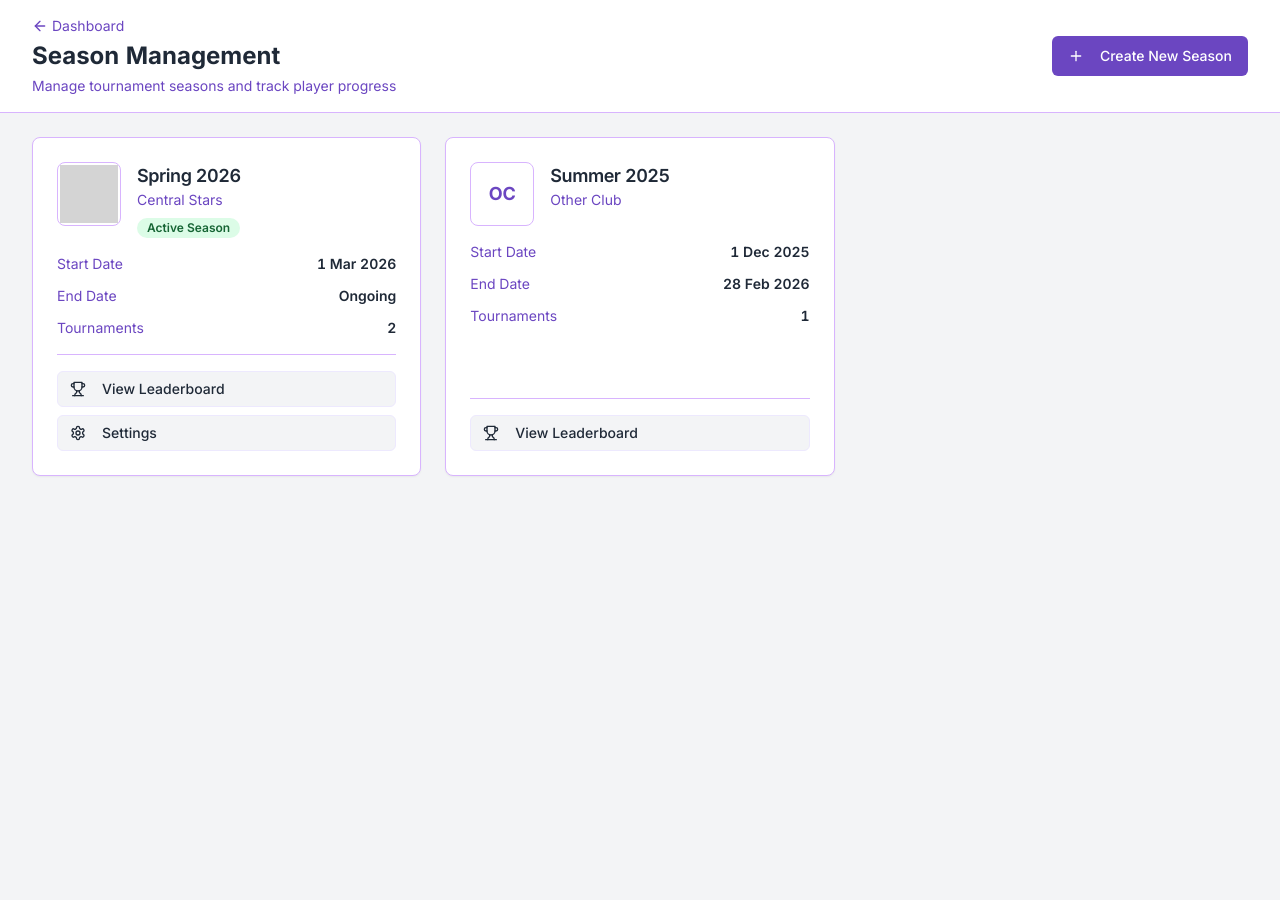
Test case: Create New Season › creates a season in a club the viewer runs, with no end date, and refreshes the list
Step 1. Click the button with test id "create-season-button" → (1150, 56), box x1=1052 y1=36 x2=1248 y2=76
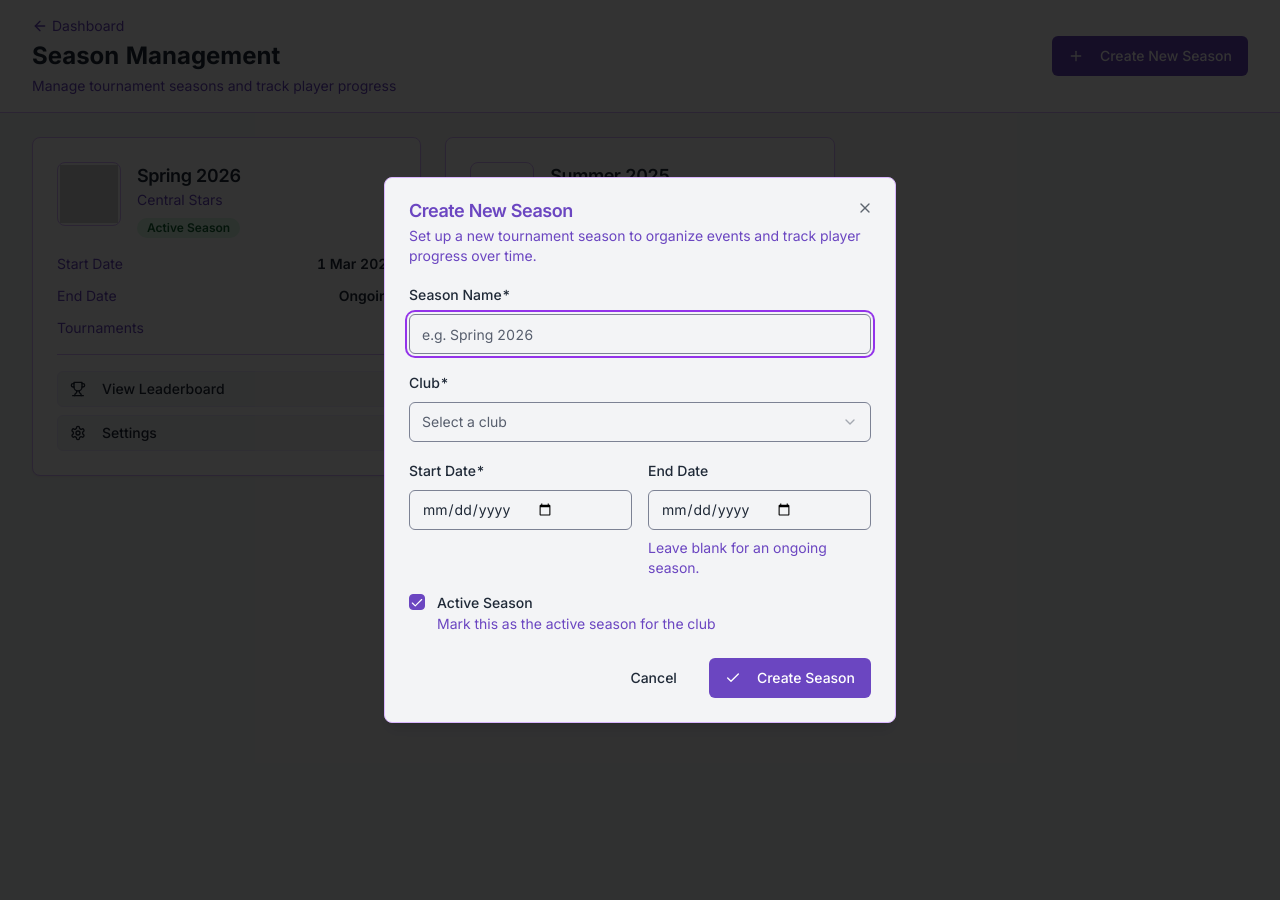
Step 2. Type "Winter League" into the field labelled "Season Name*" → (640, 334), box x1=409 y1=314 x2=871 y2=354
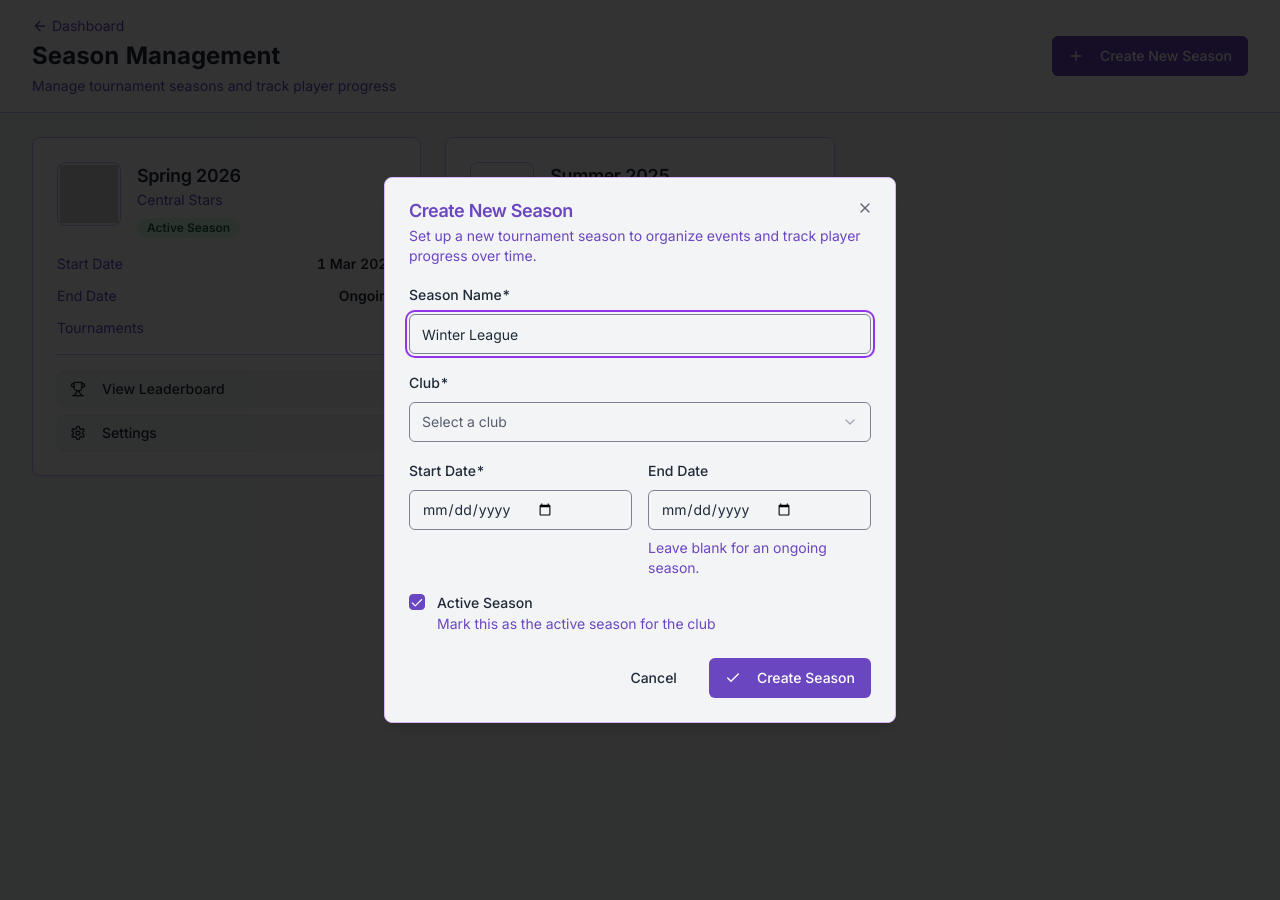
Step 3. Click the dropdown labelled "club" → (464, 422), box x1=409 y1=402 x2=871 y2=442
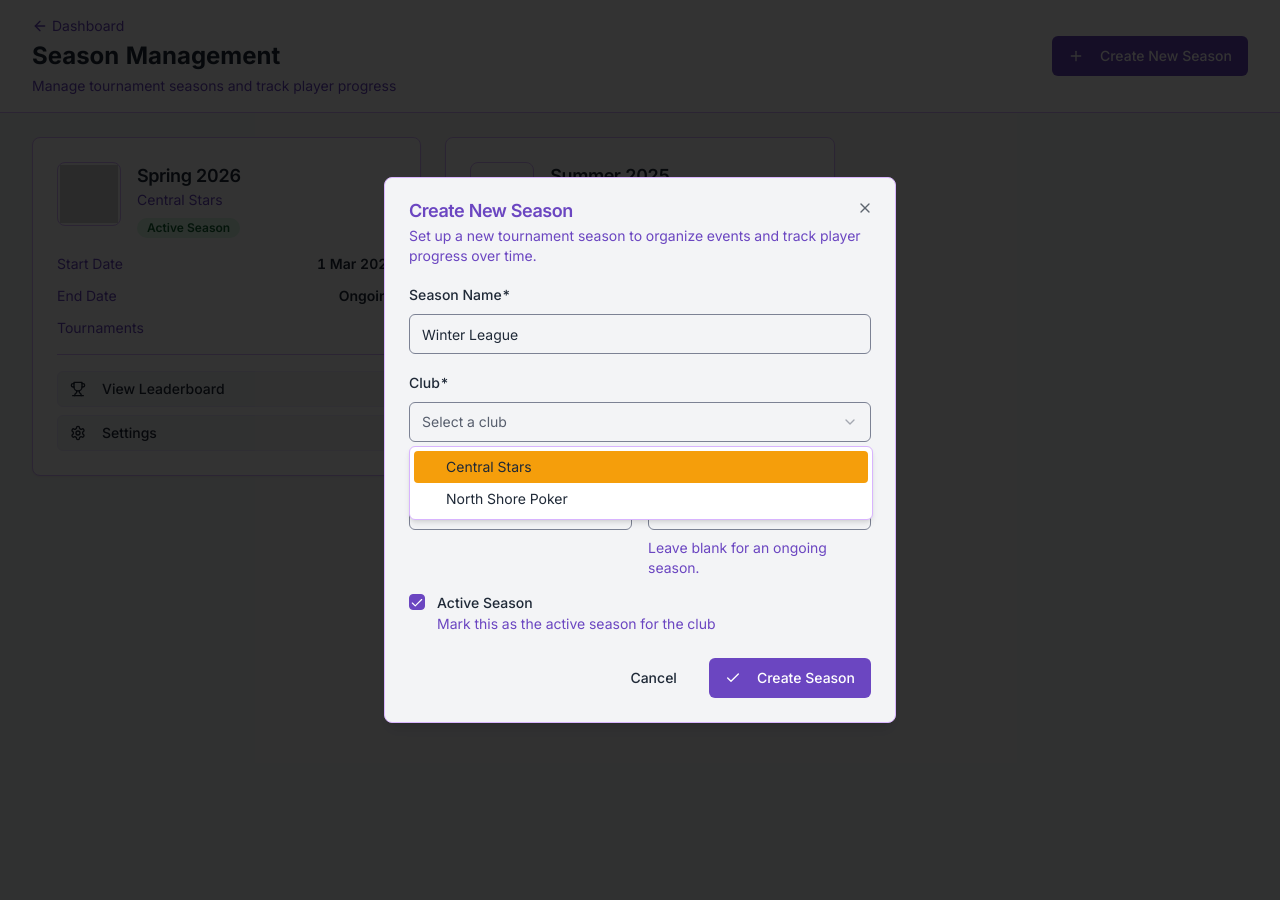
Expected: the options read "Central Stars", "North Shore Poker", in this order
Step 4. Click the option "North Shore Poker" → (507, 498), box x1=446 y1=490 x2=568 y2=507
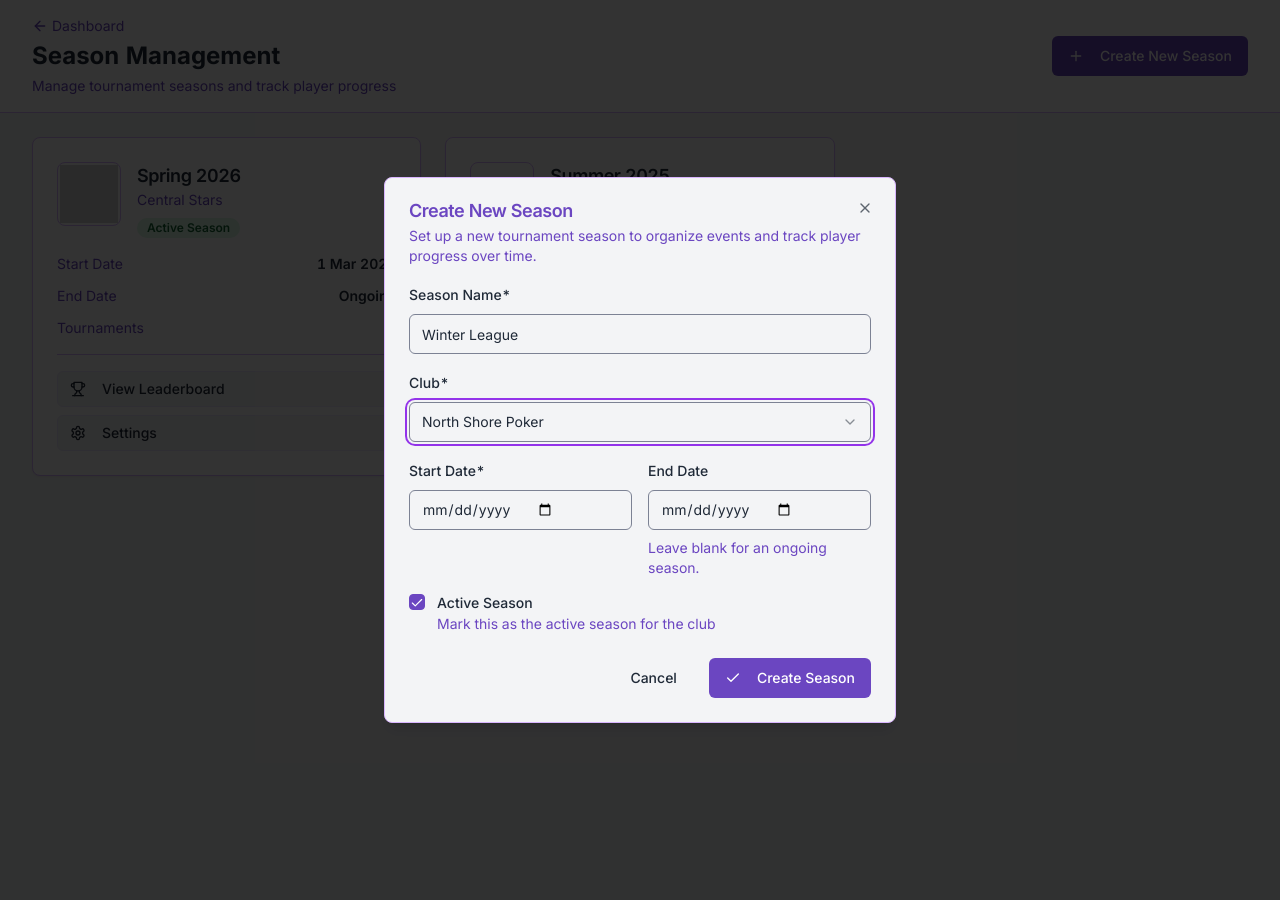
Step 5. Type "2026-06-01" into the date field labelled "Start Date*" → (520, 510), box x1=409 y1=490 x2=632 y2=530
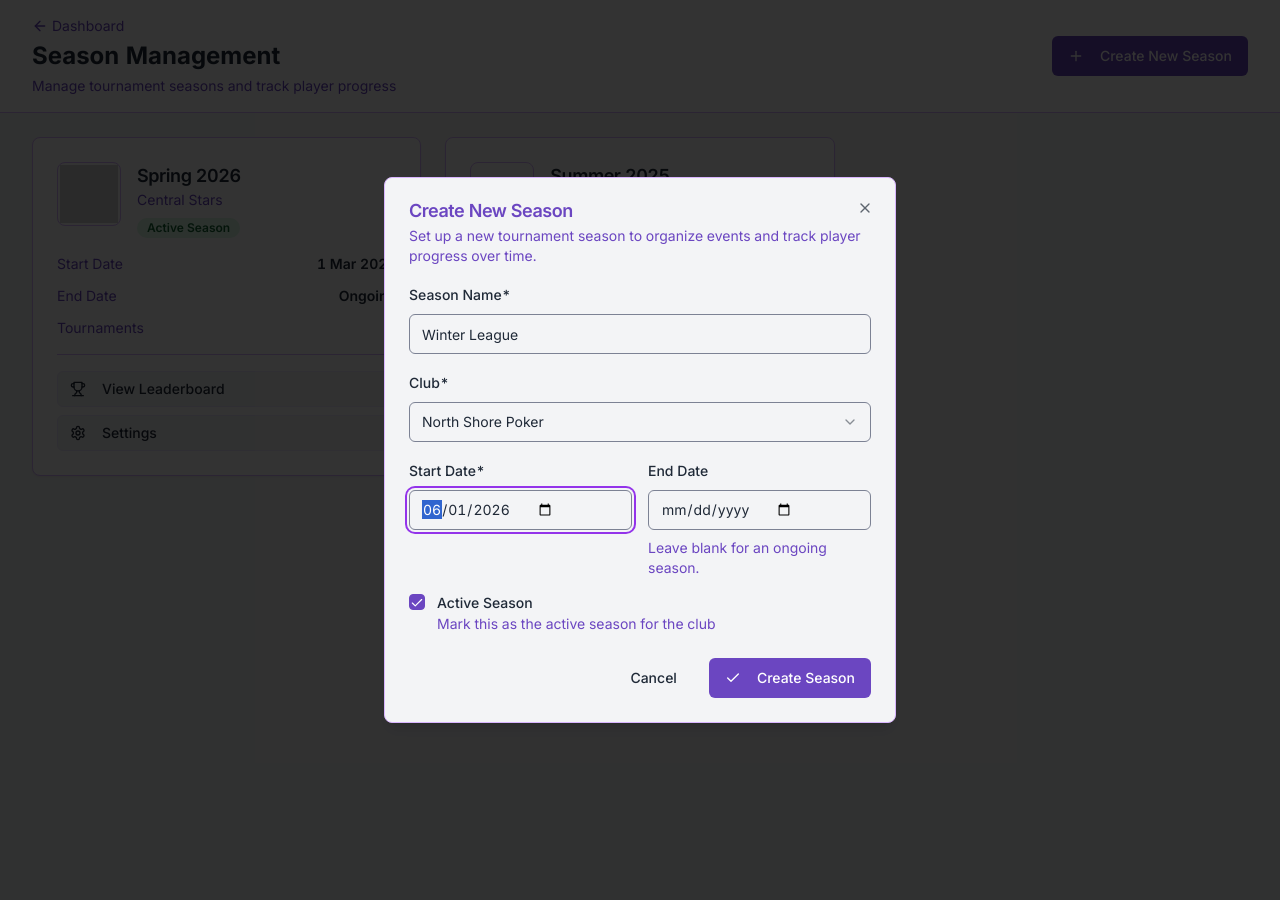
Step 6. Click the button "Create Season" → (790, 678), box x1=709 y1=658 x2=871 y2=698
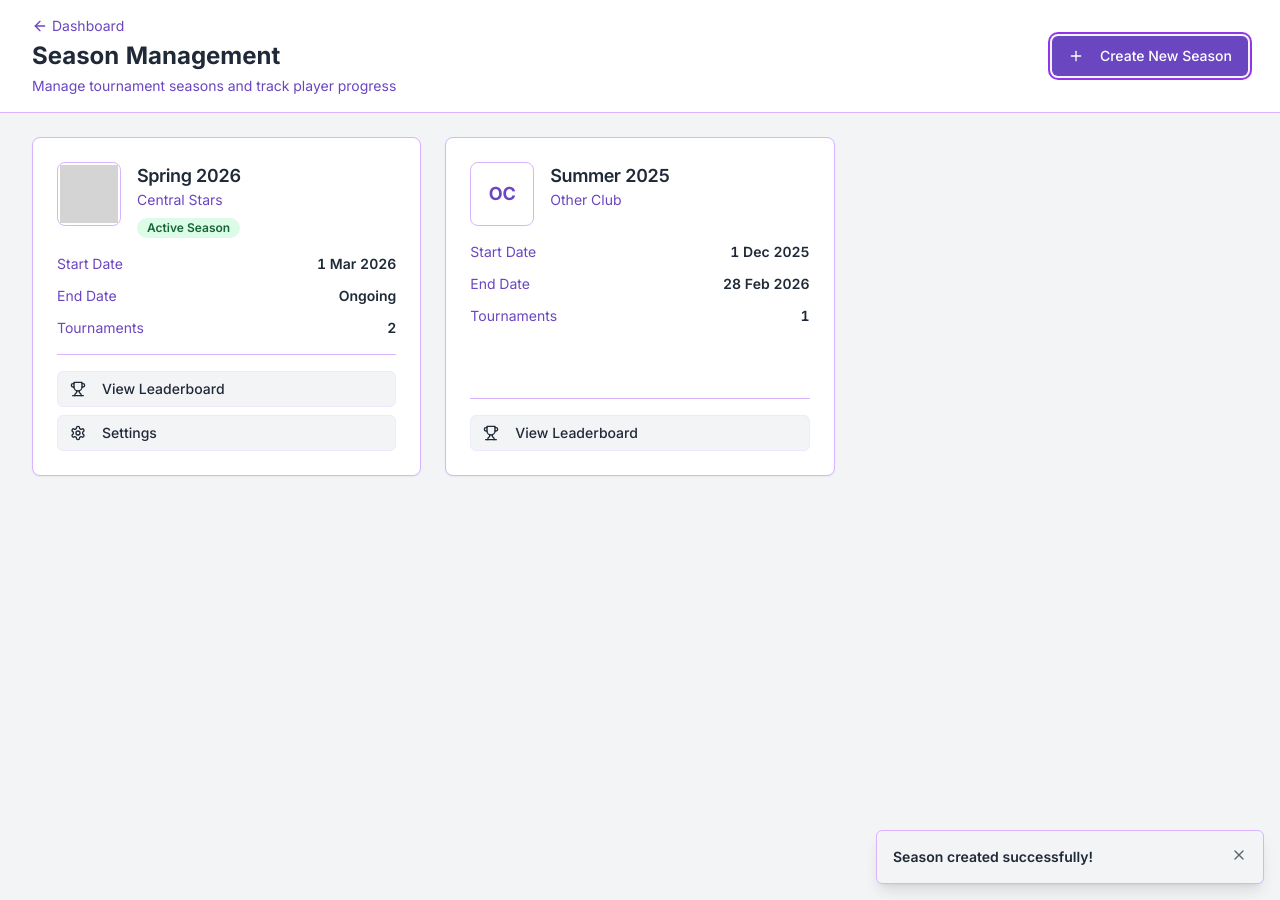
Expected: the dialog is gone
Expected: the text "Season created successfully!" is shown, x1=893 y1=848 x2=1093 y2=865
